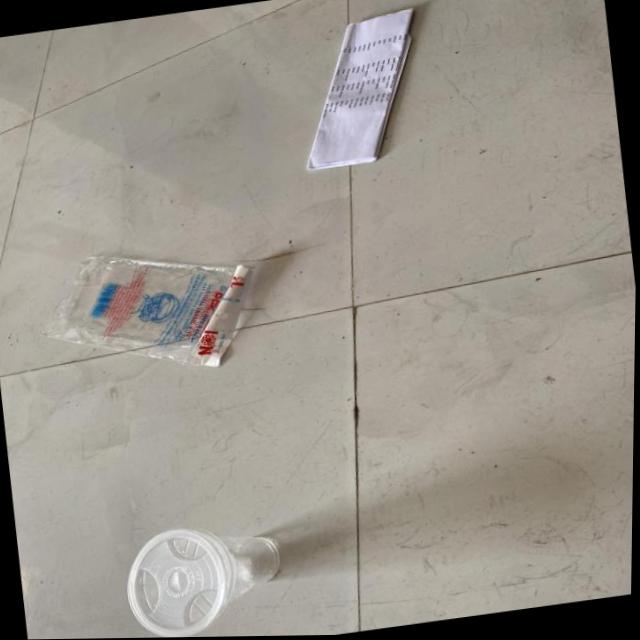leaf: (115, 509, 314, 639)
metal: (38, 223, 287, 394)
